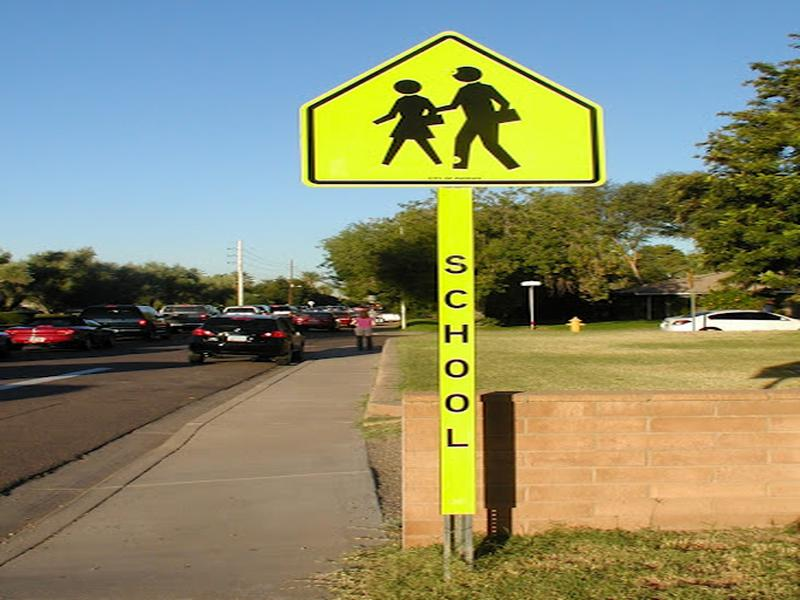slow: (298, 30, 618, 196)
